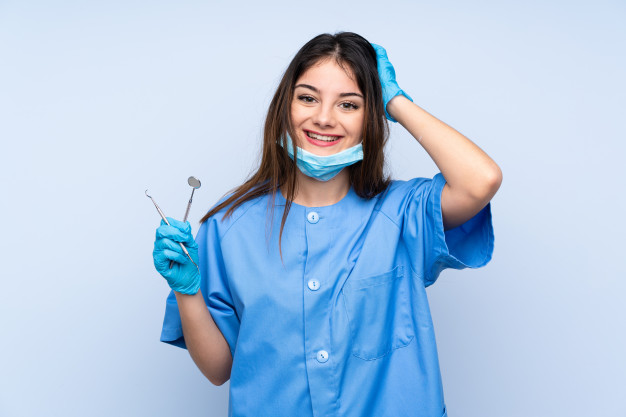mask_weared_incorrect: (271, 66, 369, 185)
